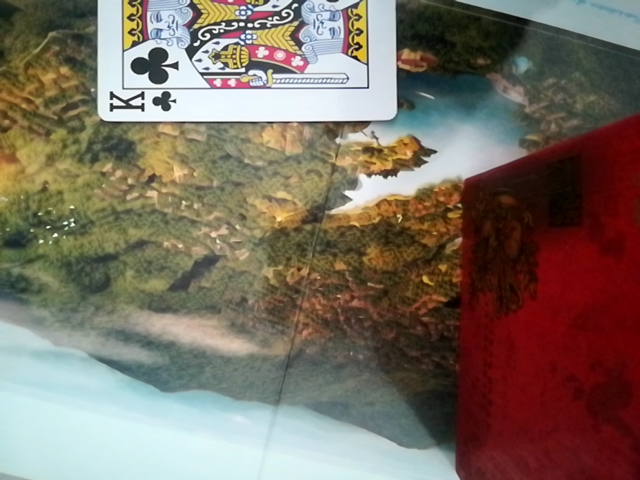mh k: (83, 5, 403, 131)
